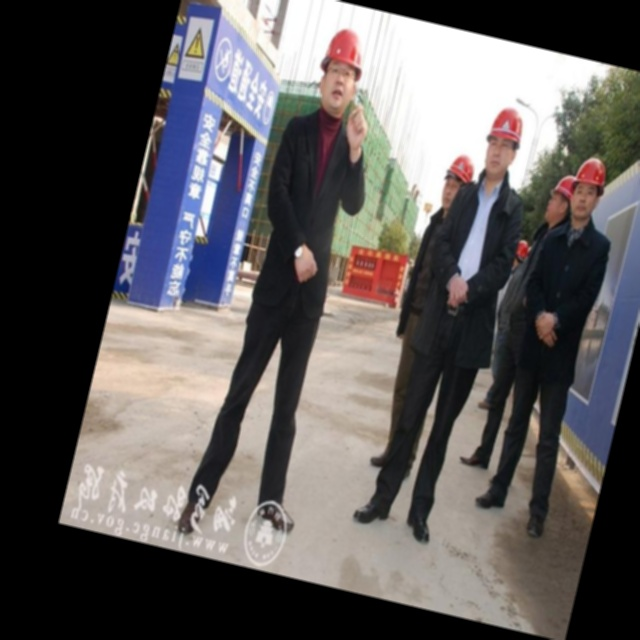Con_Casco: (309, 25, 373, 119), (477, 104, 529, 182), (566, 153, 611, 228)
